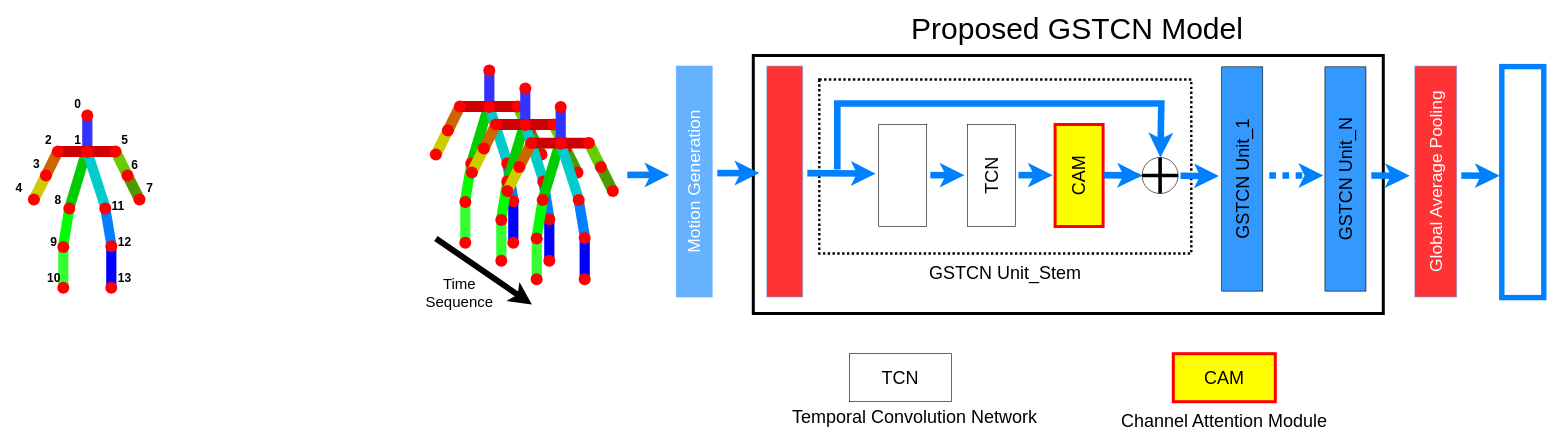
The diagram is 1556 pixels wide and 441 high, and some of its shapes have lost their labels. The centre of each missing label's shape, as x and y in pixels:
"Batch Normalization" belongs at pixel 784 181.
"FC Layer" belongs at pixel 1522 182.
"Graph Convolution" belongs at pixel 902 175.
